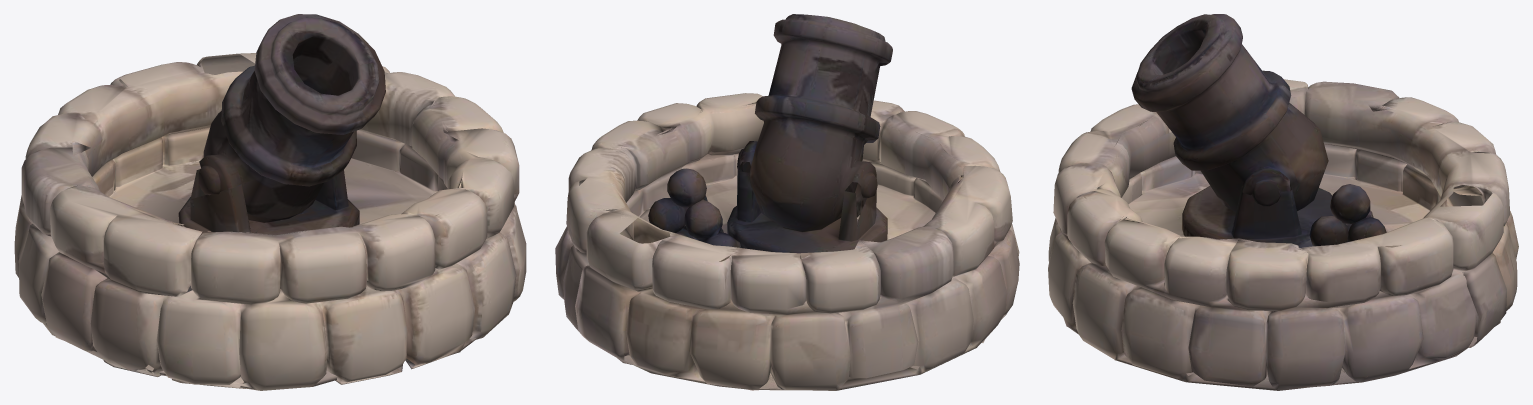
The model's file is mortier-jeu-QJVAONPD.glb.
The picture shows the model from 3 angles, left to right: view 1: azimuth 30°, elevation 25°; view 2: azimuth 150°, elevation 25°; view 3: azimuth 270°, elevation 25°; orthographic projection. The views are drawn at different scales.
Parts seen in each view (by area): view 1: mortier; view 2: mortier; view 3: mortier.
Part boxes in pixels (<box>): mortier: <box>14,14,526,390</box>; mortier: <box>555,14,1019,390</box>; mortier: <box>1048,14,1518,390</box>.
Size of the model in its own units: 3.73 by 2.3 by 3.63.
Materials: 1 (1 with a texture image).
